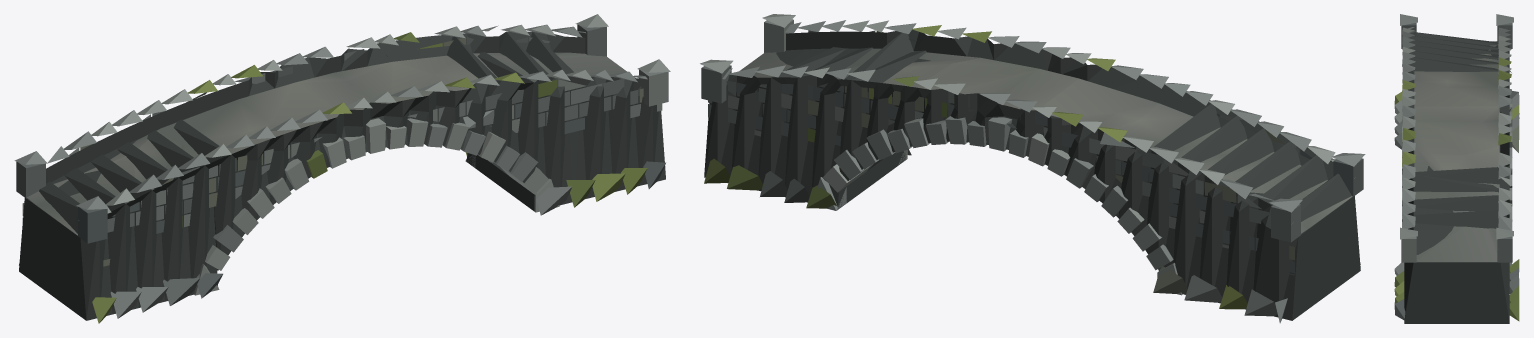
Rendered from river_bridge-lod1.glb.
3 renders of one model, left to right at view 1: azimuth 30°, elevation 25°; view 2: azimuth 150°, elevation 25°; view 3: azimuth 270°, elevation 25°, orthographic. The views are drawn at different scales.
Parts seen in each view (by area): view 1: river_bridge; view 2: river_bridge; view 3: river_bridge.
Boxes of the visible parts, bbox=[...] form: river_bridge: bbox=[14, 14, 670, 323]; river_bridge: bbox=[700, 14, 1365, 323]; river_bridge: bbox=[1394, 14, 1519, 323].
Bounding box in the file's own units: 22.15 × 5.42 × 5.27.
